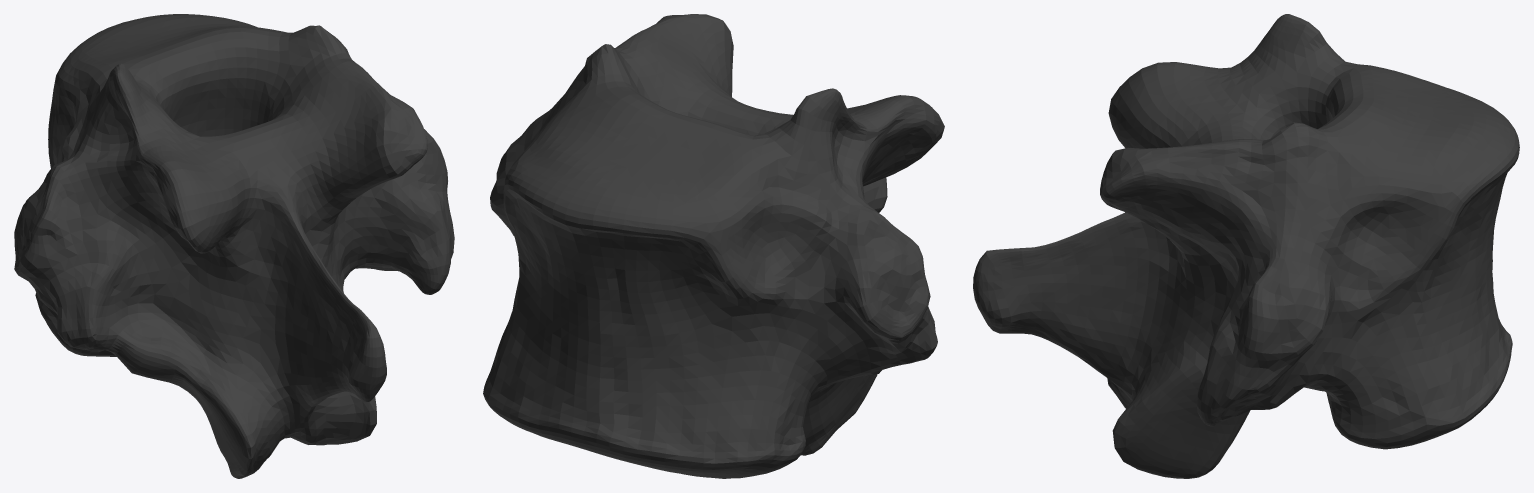
The picture shows the model from 3 angles, left to right: view 1: azimuth 30°, elevation 25°; view 2: azimuth 150°, elevation 25°; view 3: azimuth 270°, elevation 25°; orthographic projection. The views are drawn at different scales.
Visible parts, largest first — view 1: t11_low; view 2: t11_low; view 3: t11_low.
Part boxes in pixels (x1,y1,x2,y2): t11_low: [14, 14, 454, 478]; t11_low: [483, 14, 944, 478]; t11_low: [973, 14, 1519, 478].
Size of the model in its own units: 37.68 by 34.51 by 42.51.
1 material, 1 textured.
